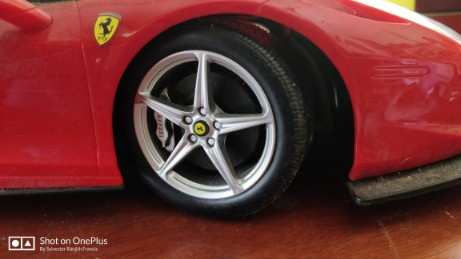unaligned_wheel: (117, 28, 317, 214)
